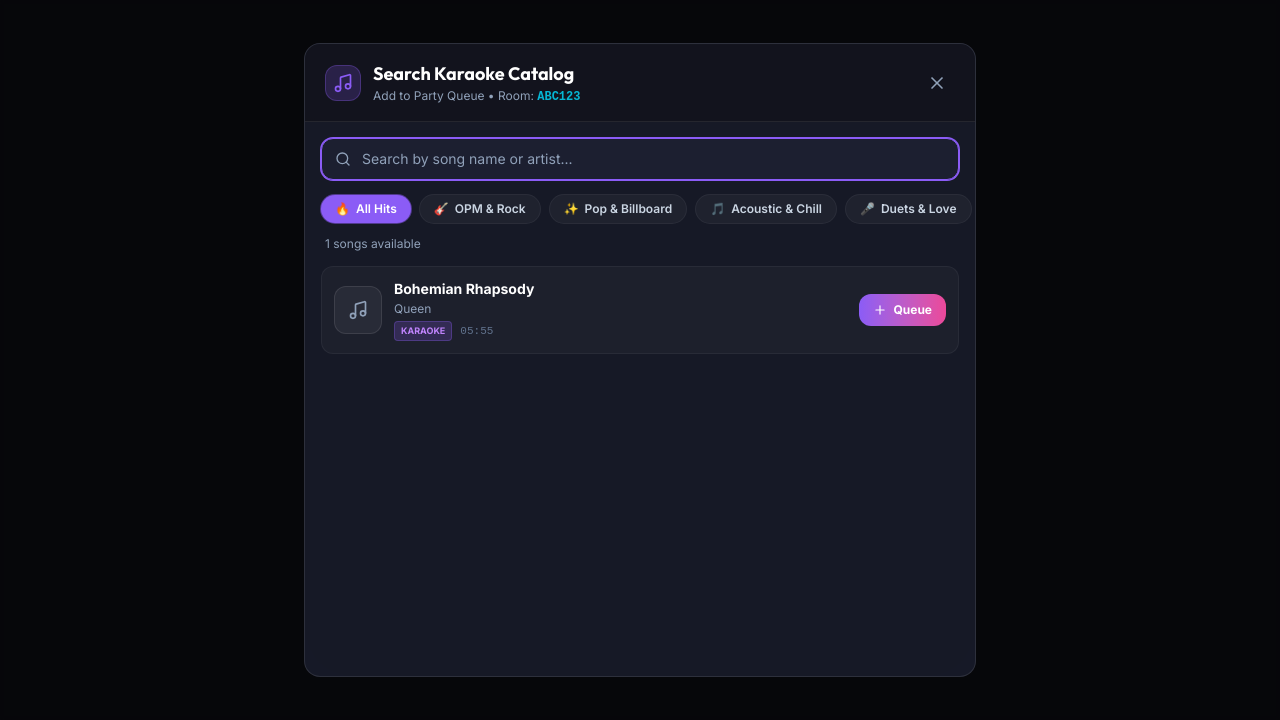
WebSongSearchModal after a successful add (Flow 2 step 4) › stays open and shows the error when the add fails
Click the button titled "Queue this song": (903, 310) [859, 294, 946, 326]
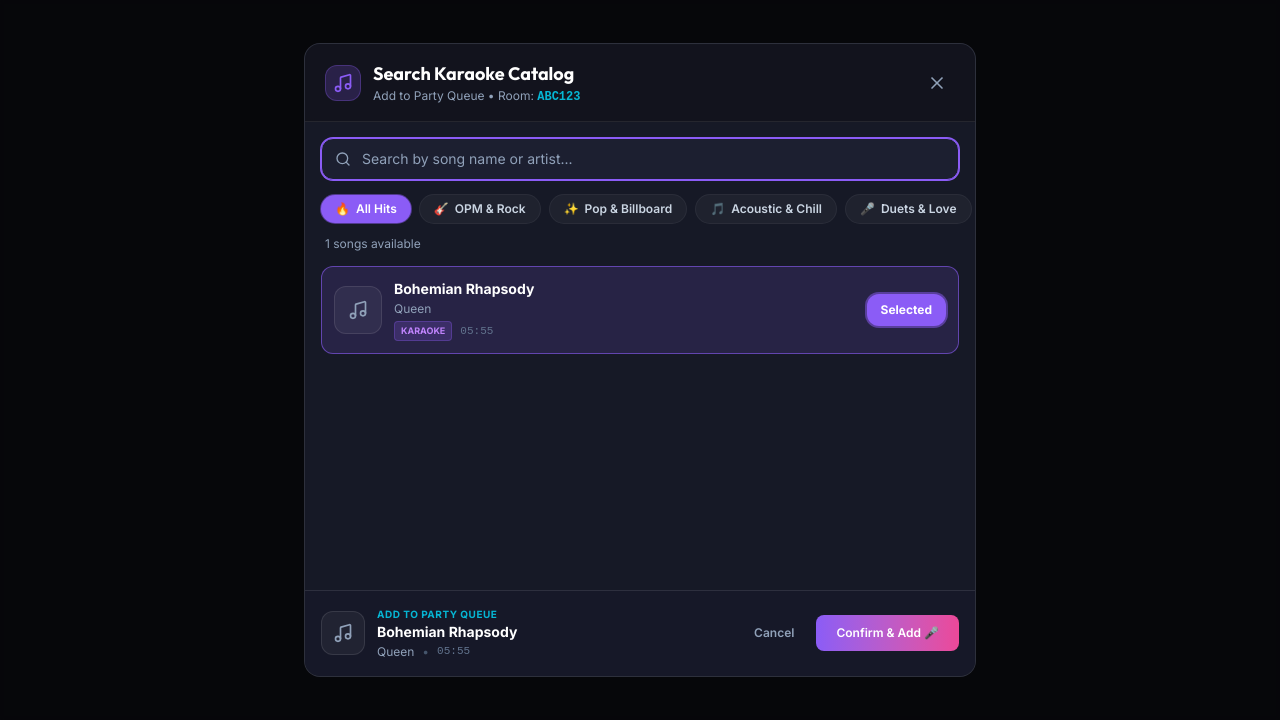
Click the button "Confirm & Add 🎤": (888, 633) [816, 615, 959, 651]
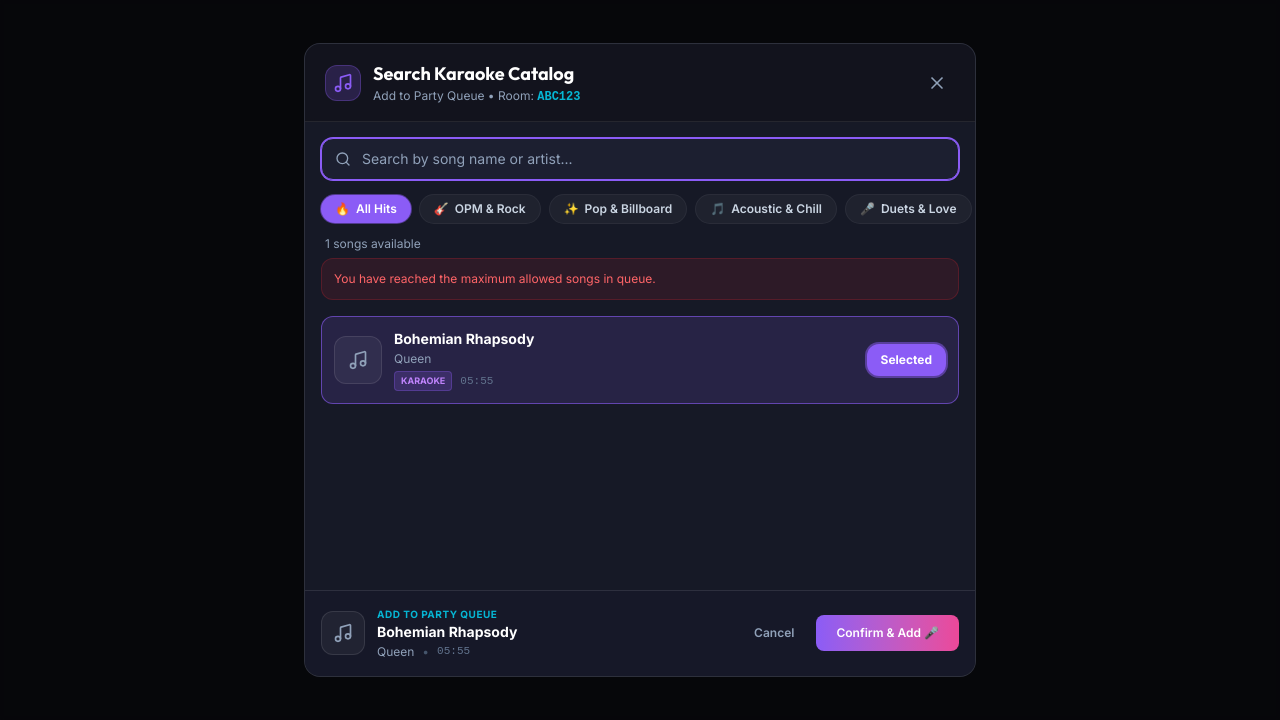
Expected: the text "You have reached the maximum allowed songs in queue." is shown, [321, 258, 959, 300]
